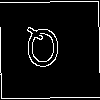Q: (25, 25, 61, 76)
